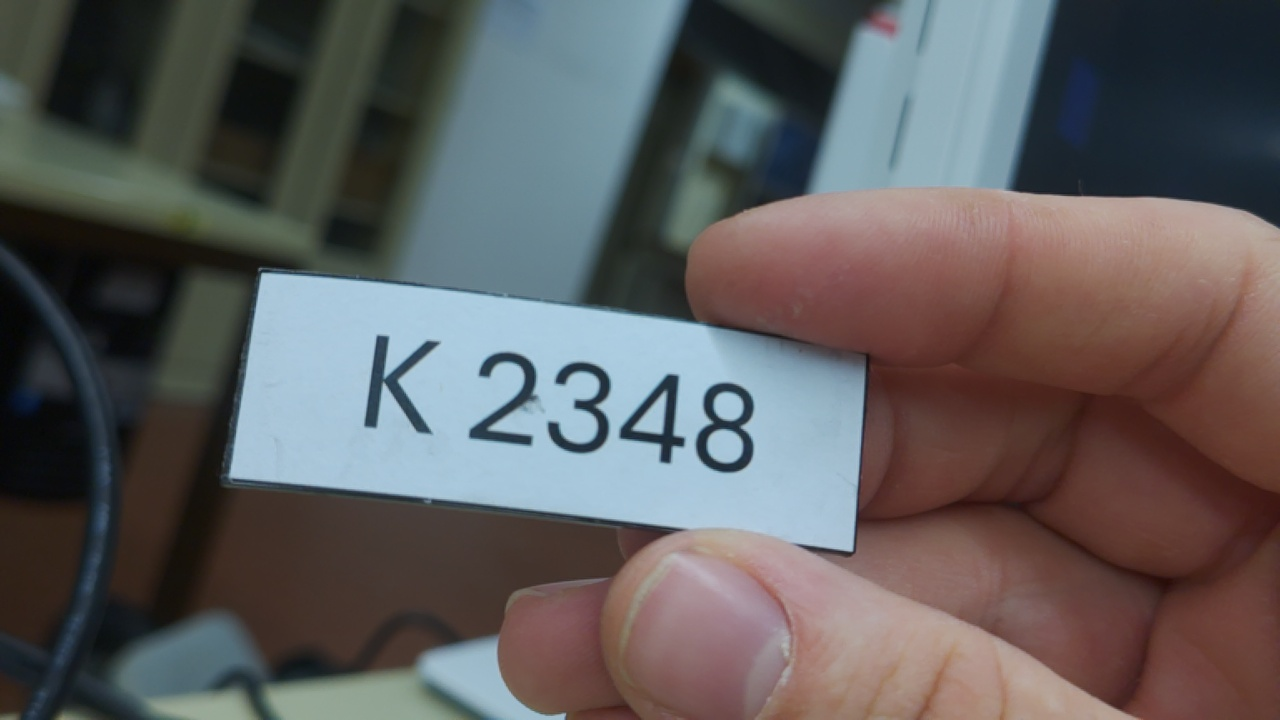license_plate: (215, 258, 880, 564)
